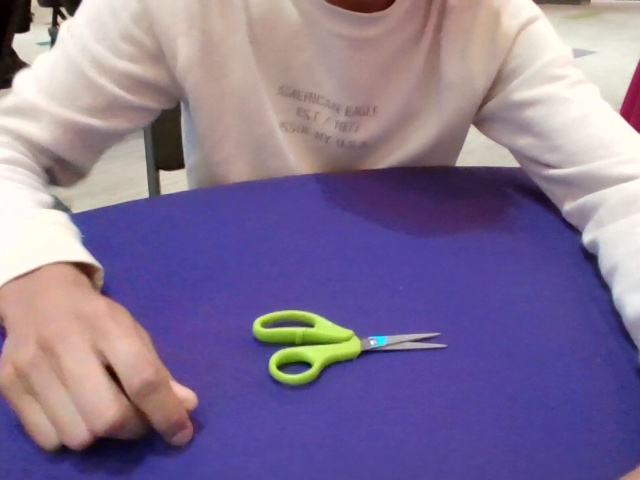tijeras: (252, 309, 450, 387)
